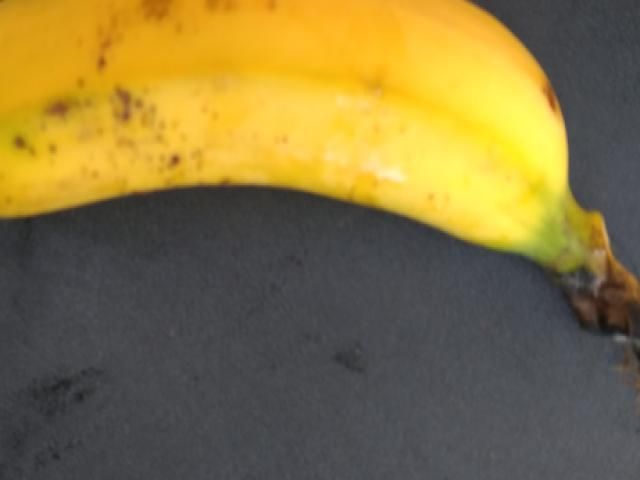ripe: (0, 0, 604, 274)
